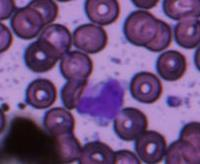M: (76, 74, 125, 123)
